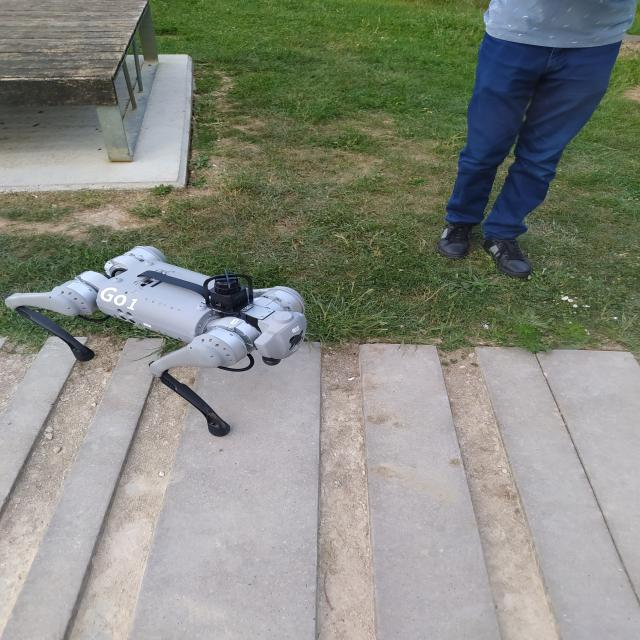unitree-go1-robot: (0, 232, 329, 444)
